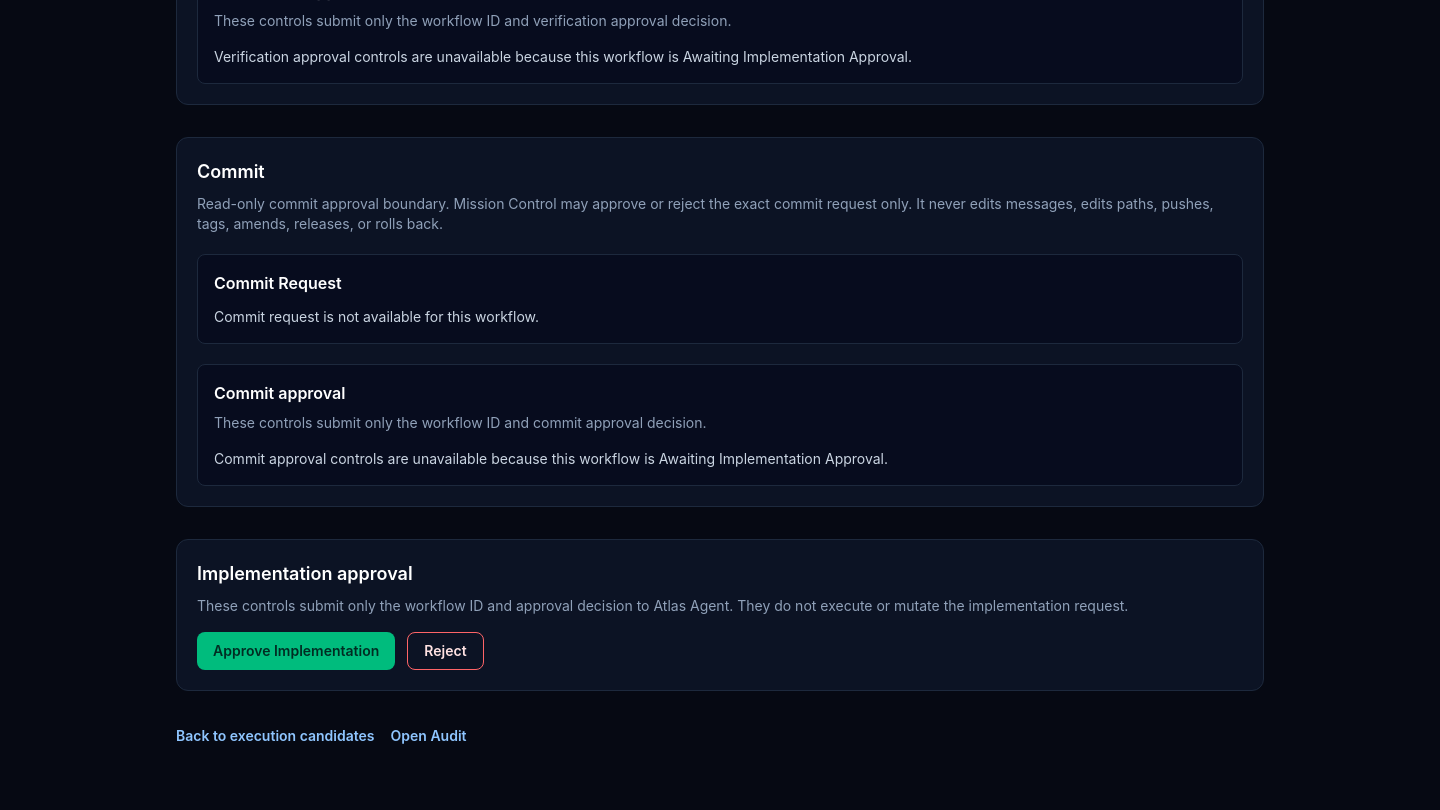
Test: WorkflowPage › maps approval error states
The width and height of the screenshot is (1440, 810).
(page scrolled)
Click the button "Approve Implementation".
click(296, 651)  # box [197,632,395,670]
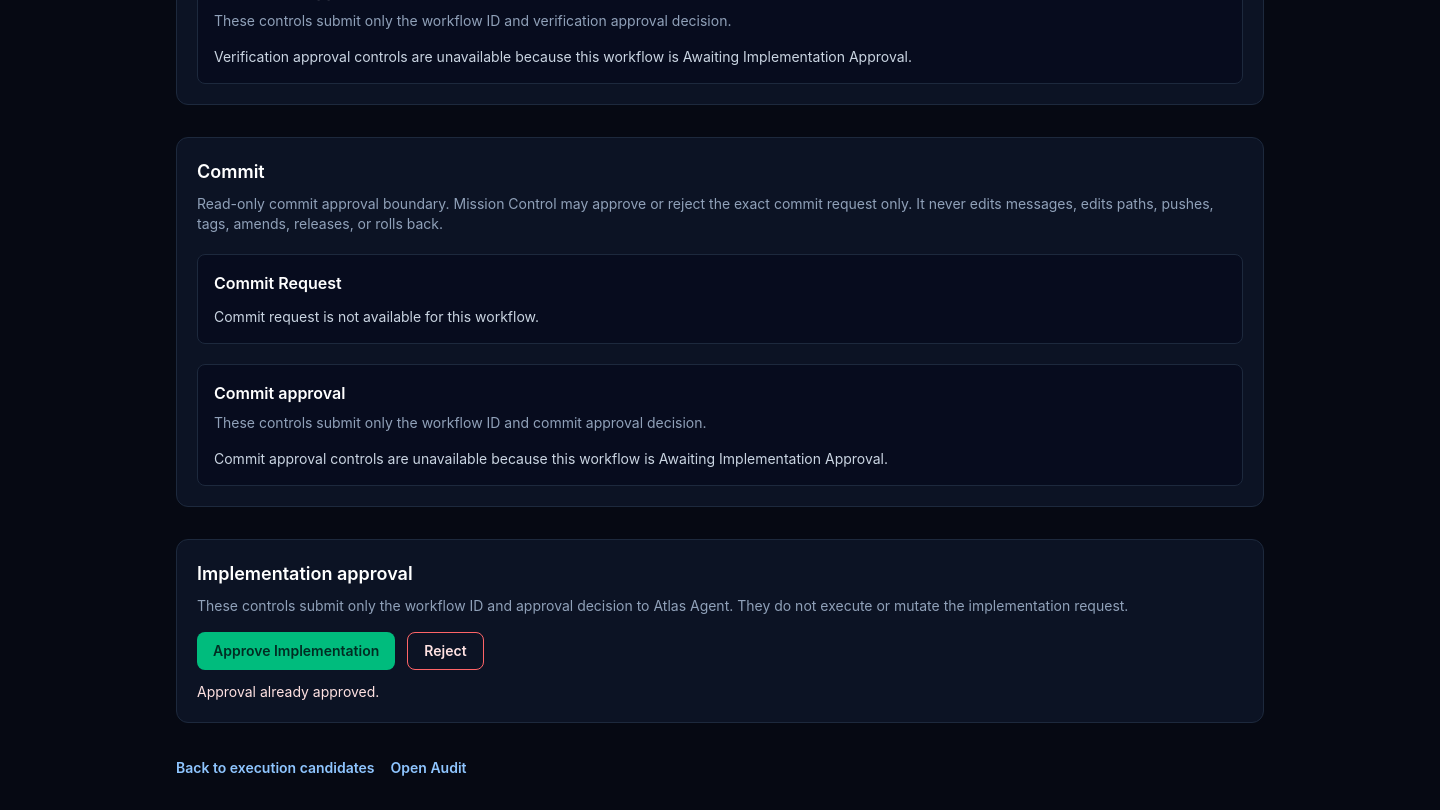
expect the message reads "Approval already approved.": met, box [197,683,379,700]
